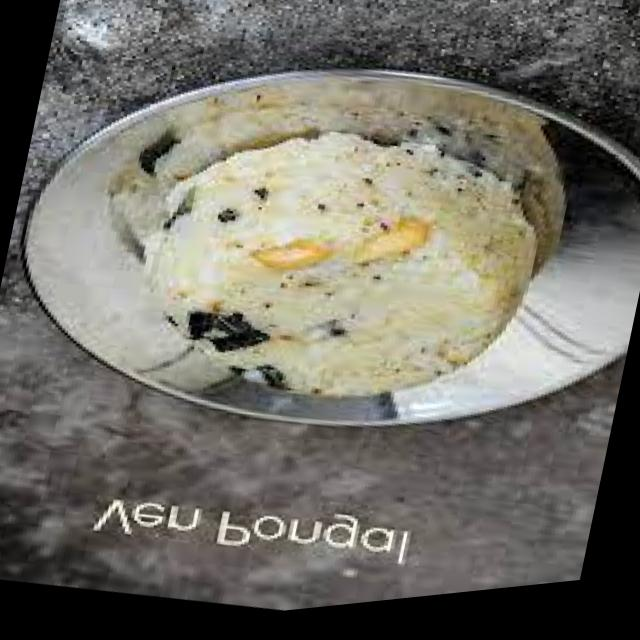PONGAL: (144, 133, 532, 395)
